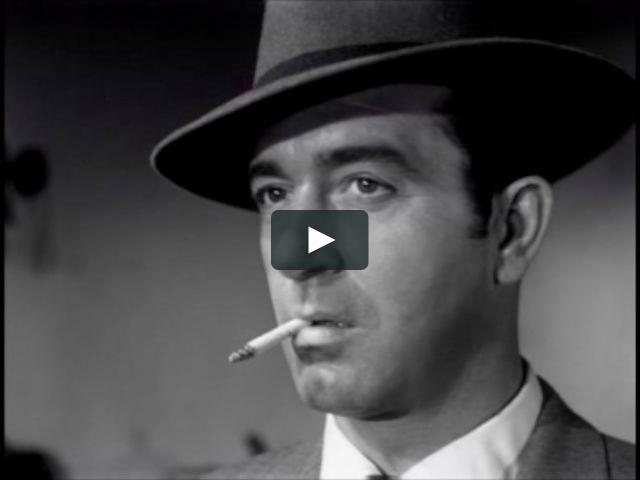SafeDriving: (329, 159, 408, 208), (248, 172, 300, 213)
Smoking: (222, 322, 302, 368)
